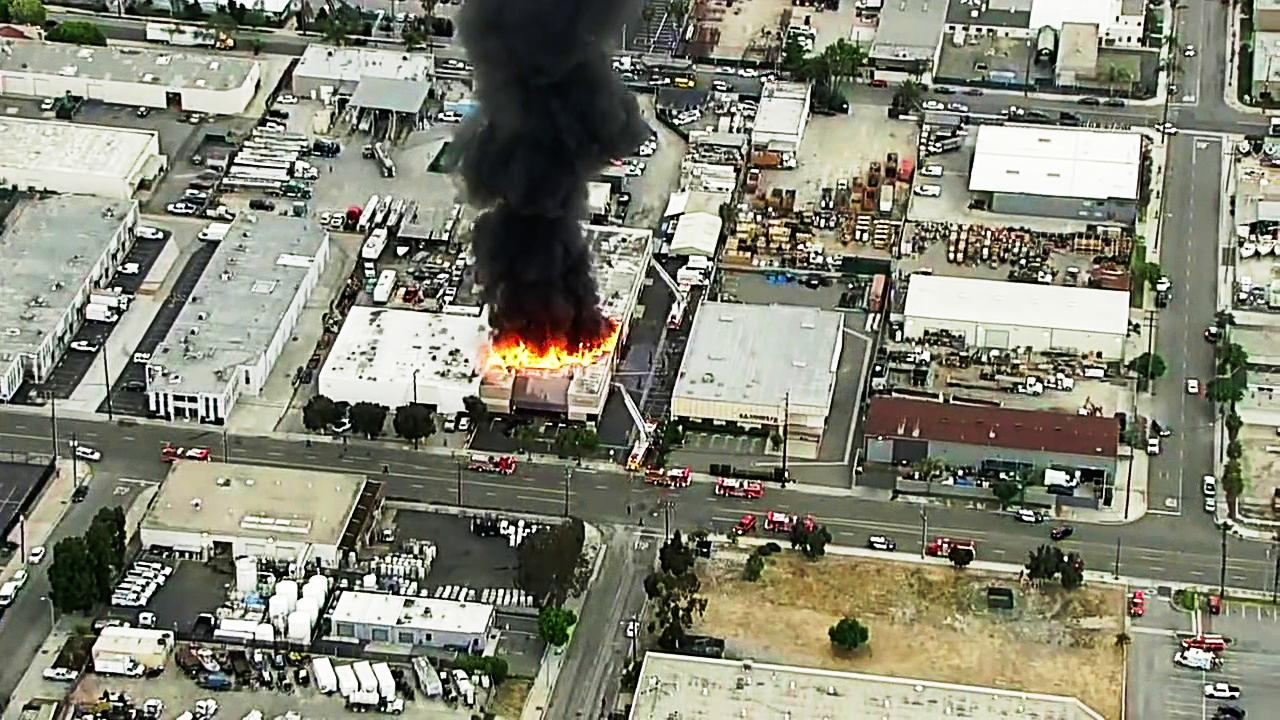fire: (486, 323, 585, 370)
smoke: (477, 42, 592, 325)
